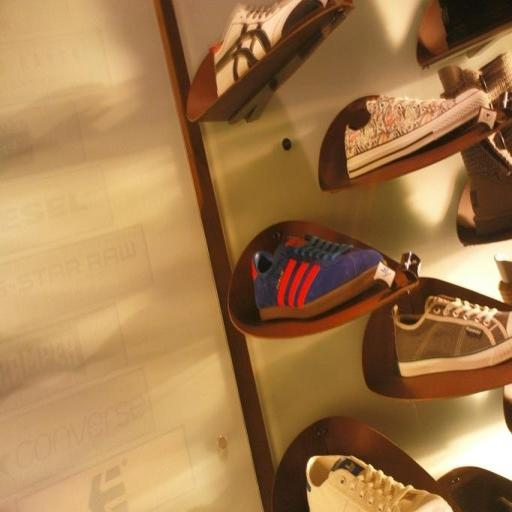shoe: (438, 52, 512, 236), (344, 87, 490, 178), (252, 236, 388, 320), (211, 0, 328, 97), (392, 295, 512, 377), (305, 455, 452, 512), (439, 0, 512, 47)
